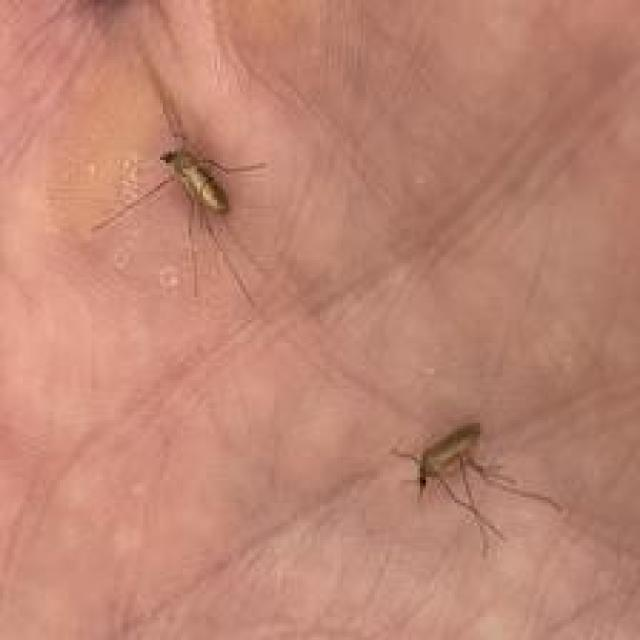Culex: (390, 420, 564, 557)
